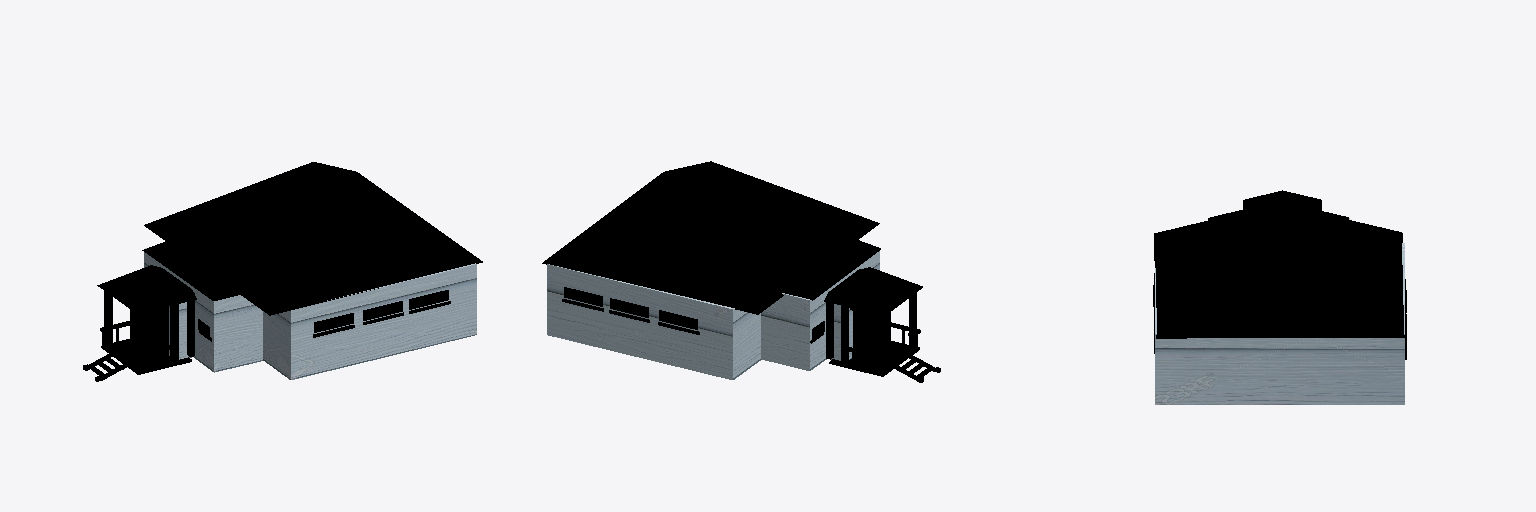
3 renders of one model, left to right at view 1: azimuth 30°, elevation 25°; view 2: azimuth 150°, elevation 25°; view 3: azimuth 270°, elevation 25°, orthographic.
Parts seen in each view (by area): view 1: Fachada:pPyramid3, Fachada:pCube1, Fachada:pPyramid1, Fachada:pCube3, Fachada:pPyramid2, Fachada:pCube18; view 2: Fachada:pPyramid3, Fachada:pCube1, Fachada:pPyramid1, Fachada:pCube3, Fachada:pPyramid2, Fachada:pCube18, Fachada:pCube2; view 3: Fachada:pPyramid3, Fachada:pCube1, Fachada:pPyramid2.
Part boxes in pixels (left/top/right/bottom): Fachada:pPyramid3: left=144, top=162, right=482, bottom=315; Fachada:pCube1: left=263, top=263, right=476, bottom=379; Fachada:pPyramid1: left=142, top=214, right=262, bottom=300; Fachada:pCube3: left=144, top=248, right=262, bottom=372; Fachada:pPyramid2: left=97, top=265, right=196, bottom=313; Fachada:pCube18: left=101, top=338, right=191, bottom=374; Fachada:pPyramid3: left=542, top=161, right=879, bottom=314; Fachada:pCube1: left=547, top=264, right=760, bottom=379; Fachada:pPyramid1: left=762, top=214, right=880, bottom=300; Fachada:pCube3: left=761, top=251, right=879, bottom=370; Fachada:pPyramid2: left=824, top=267, right=922, bottom=315; Fachada:pCube18: left=829, top=340, right=919, bottom=376; Fachada:pCube2: left=831, top=304, right=852, bottom=360; Fachada:pPyramid3: left=1154, top=203, right=1404, bottom=338; Fachada:pCube1: left=1155, top=243, right=1404, bottom=404; Fachada:pPyramid2: left=1243, top=190, right=1321, bottom=210.
Bounding box in the file's own units: 52.96 × 24.56 × 35.01.
9 materials, 1 textured.